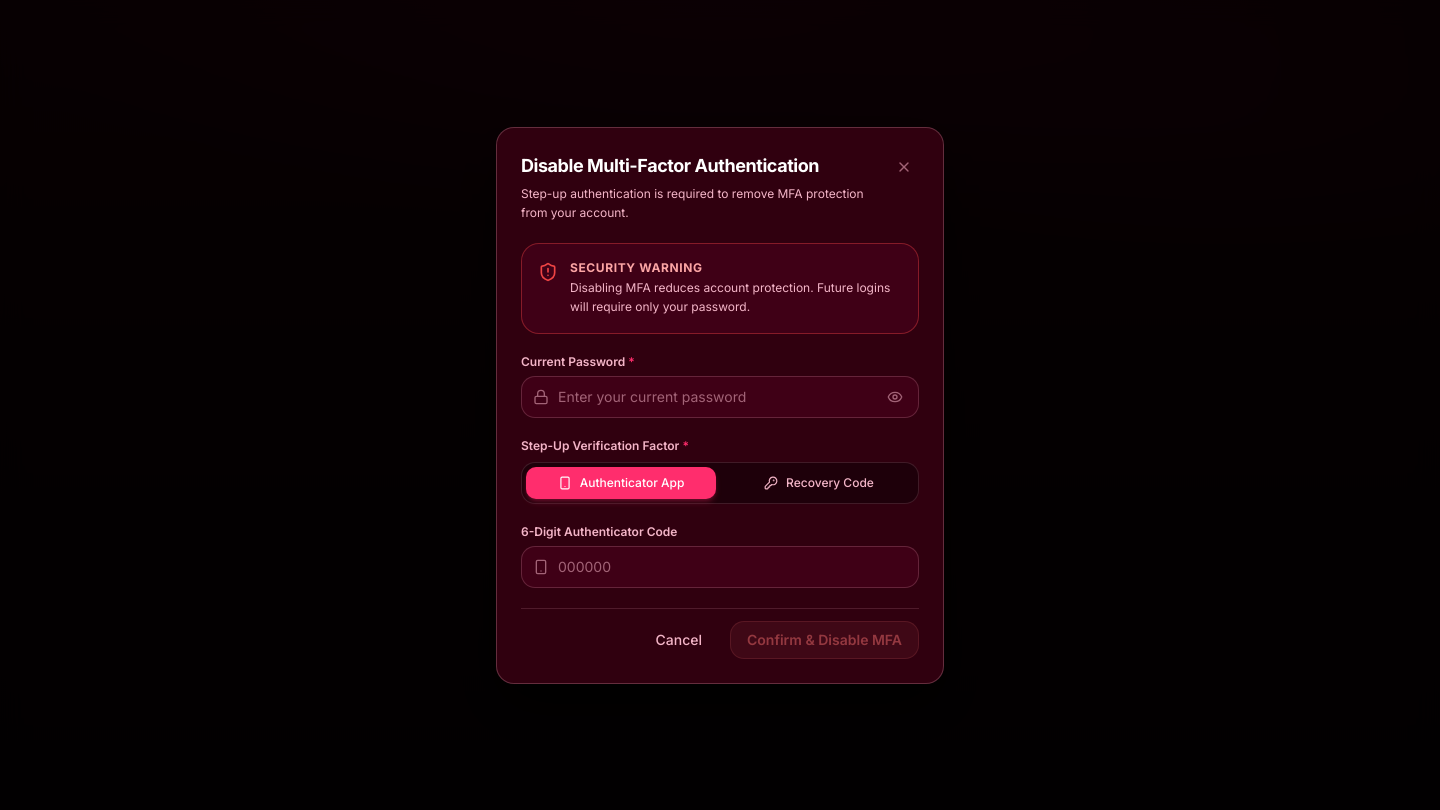
Test: MfaDisableModal Component › displays error message when credentials are wrong
Type "WrongPassword!" into the password field with placeholder "Enter your current password" at (720, 396), box [521,376,919,418]
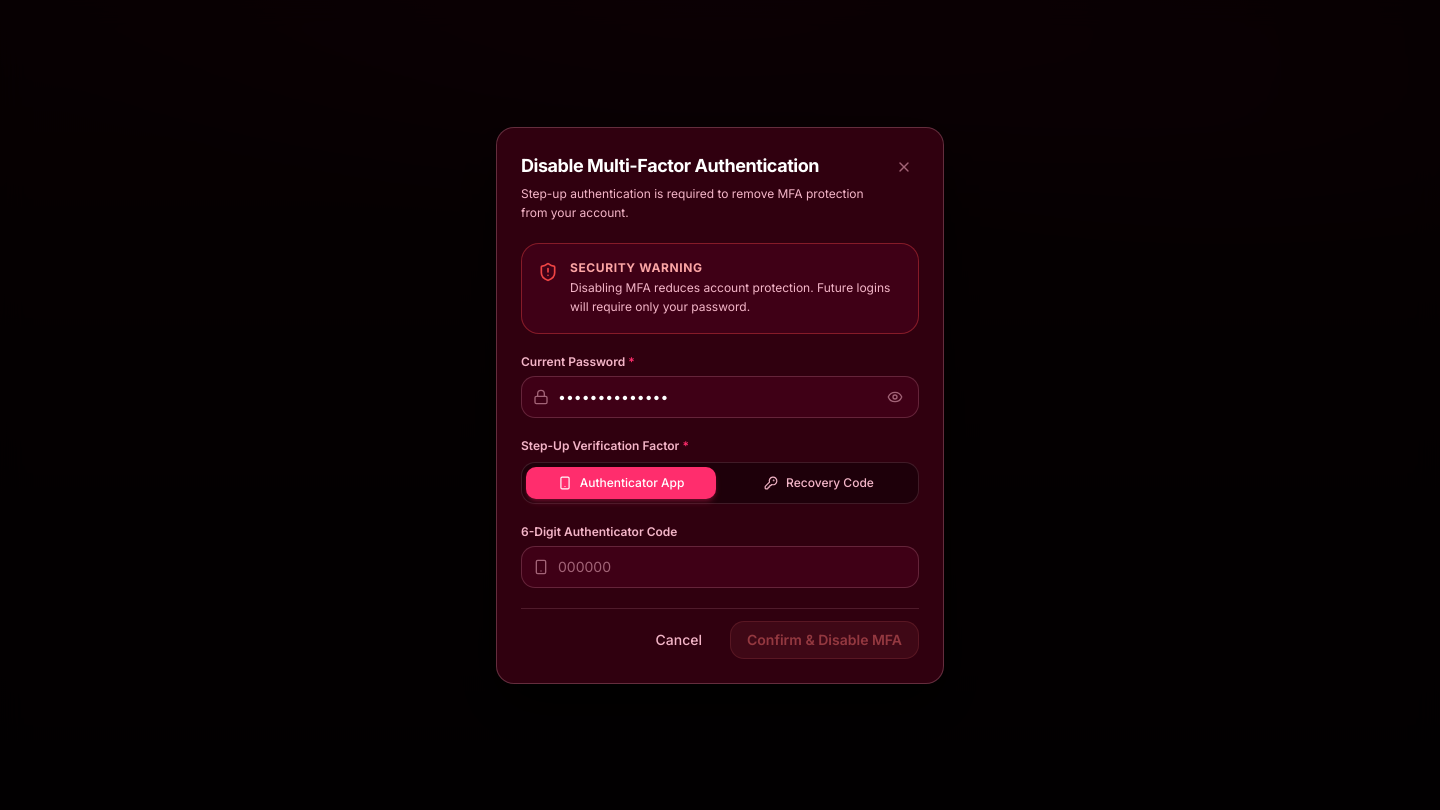
Type "111111" into the field with placeholder "000000" at (720, 566), box [521,546,919,588]
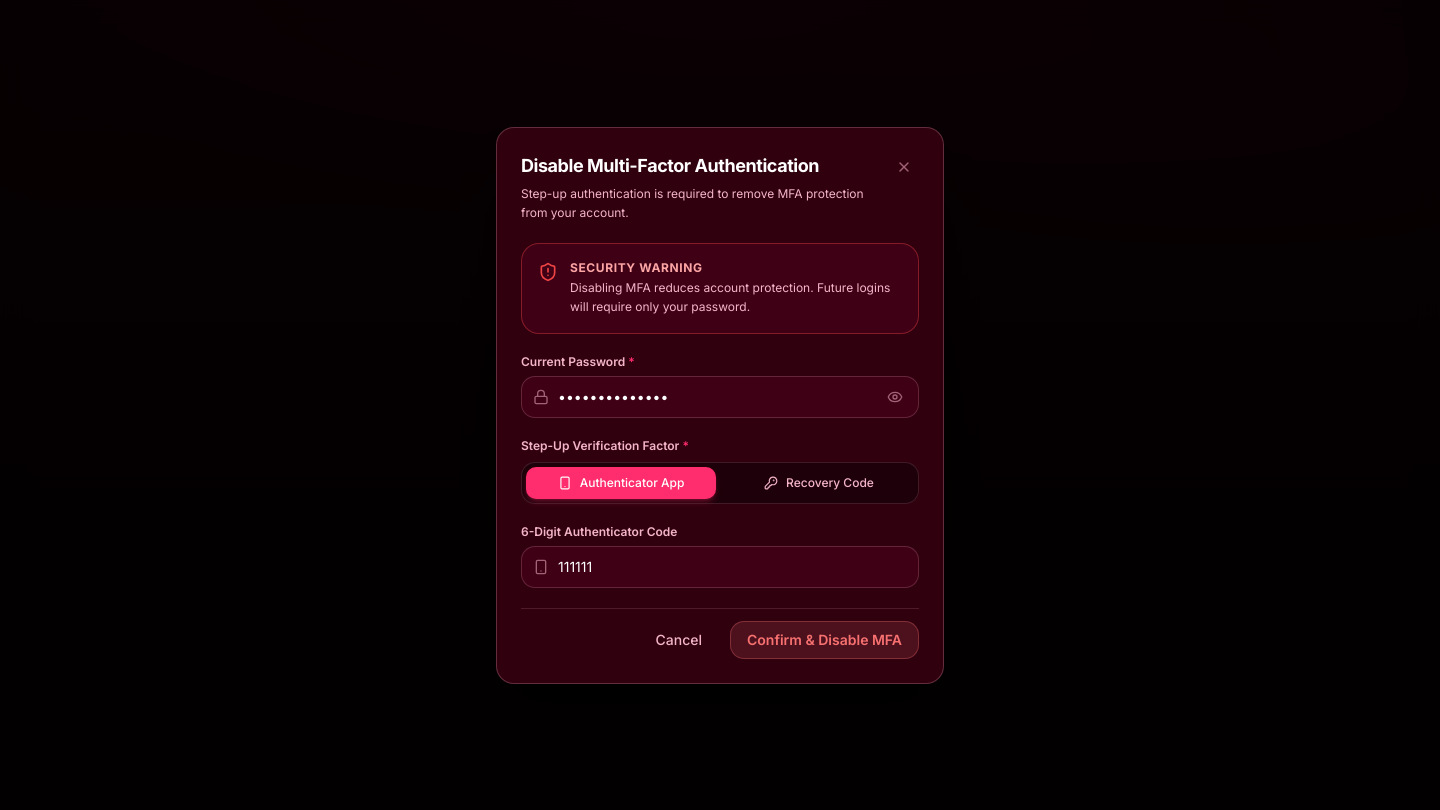
Click the button "Confirm & Disable MFA" at (824, 640), box [730,620,919,658]
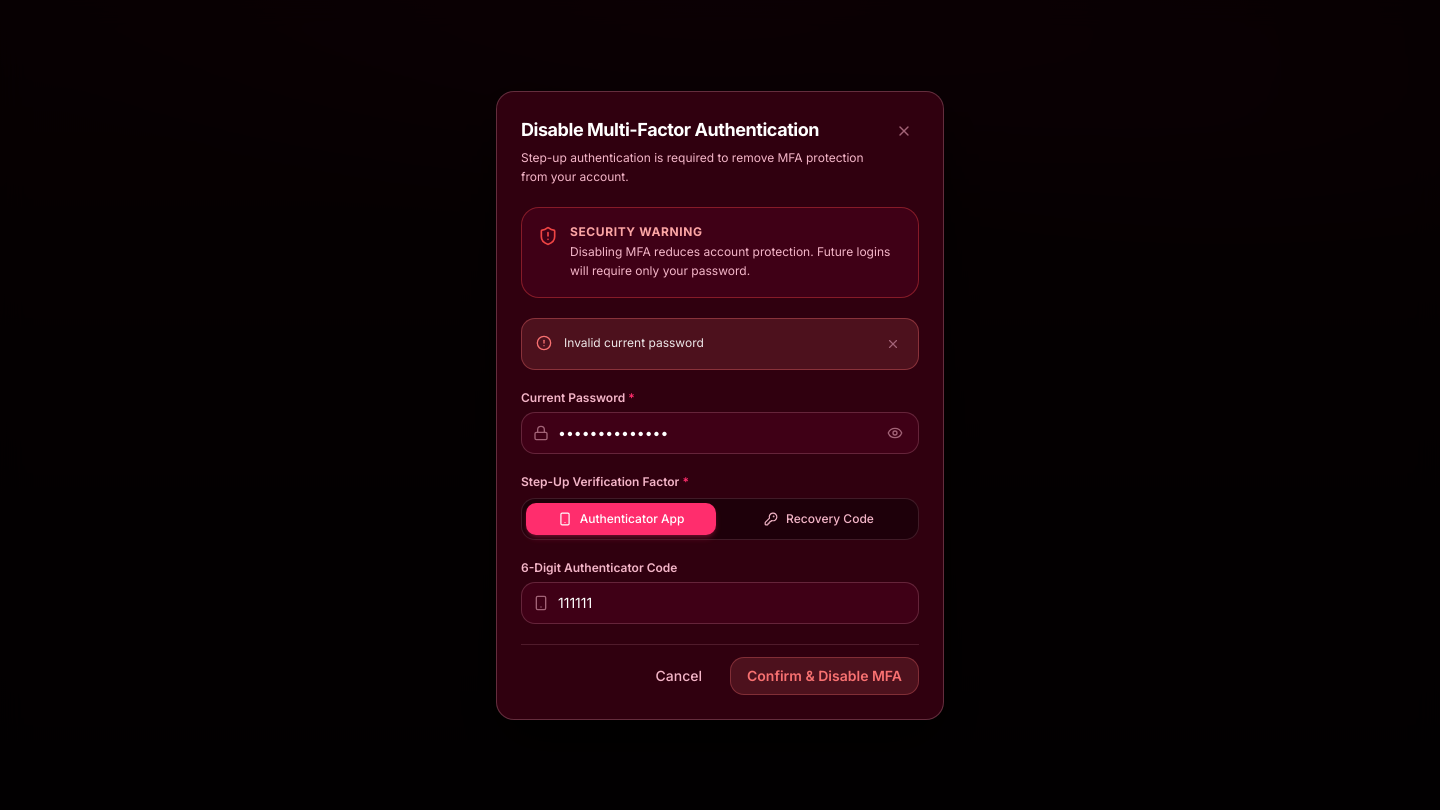
Result: the text "Invalid current password" is shown at [564,334,704,350]
